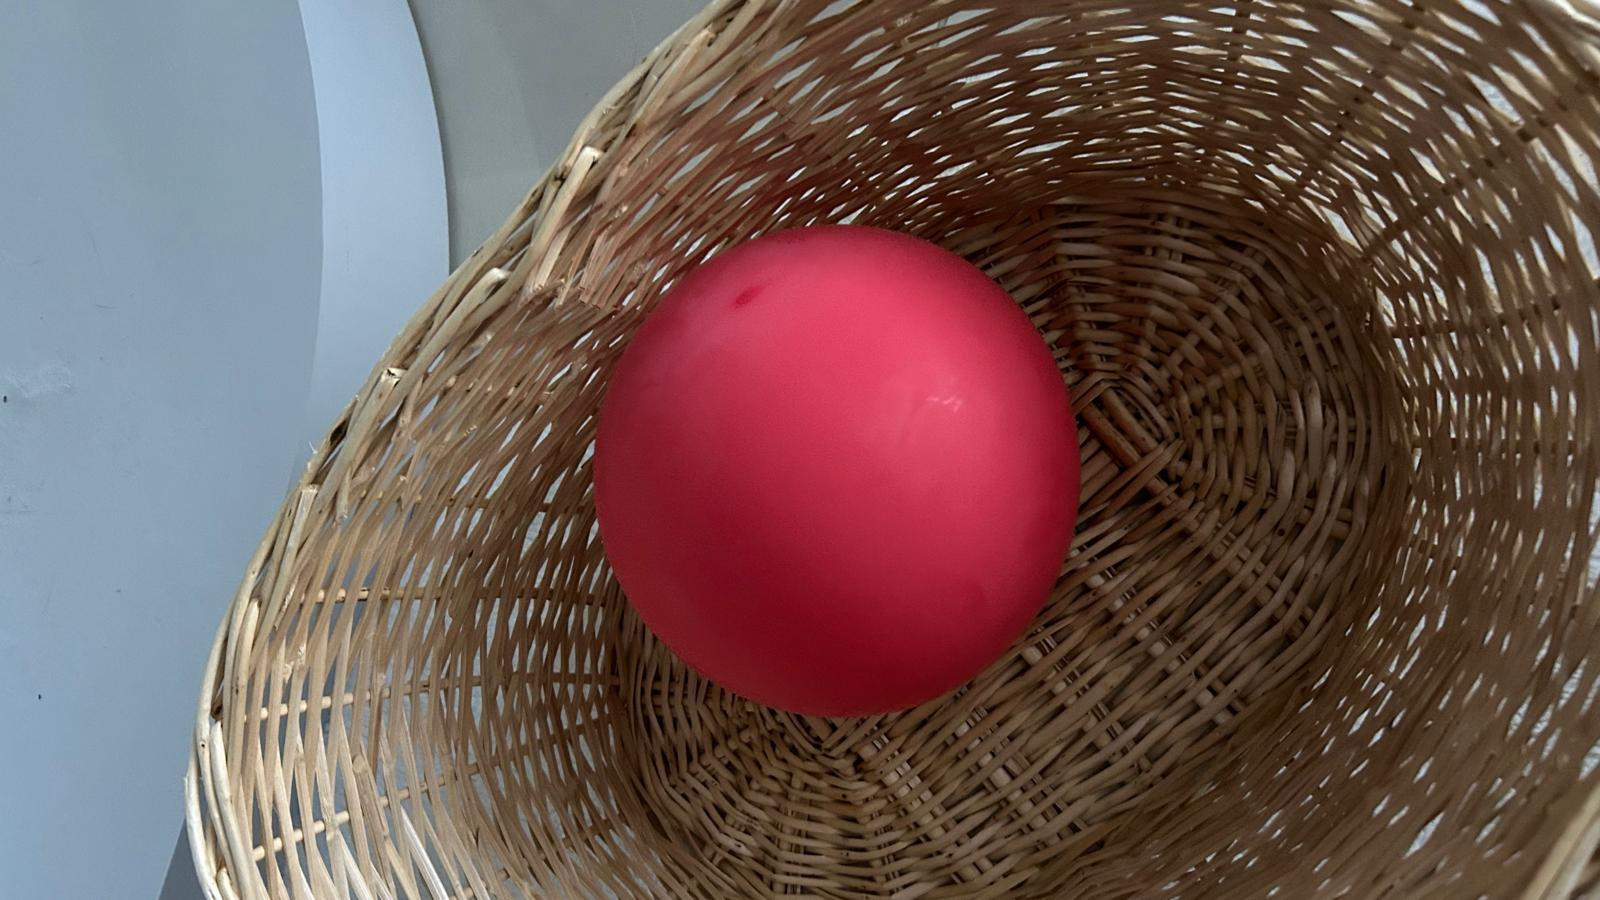red: (587, 219, 1082, 720)
